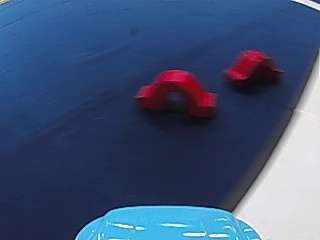bridge: (130, 66, 225, 118), (219, 46, 282, 93)
